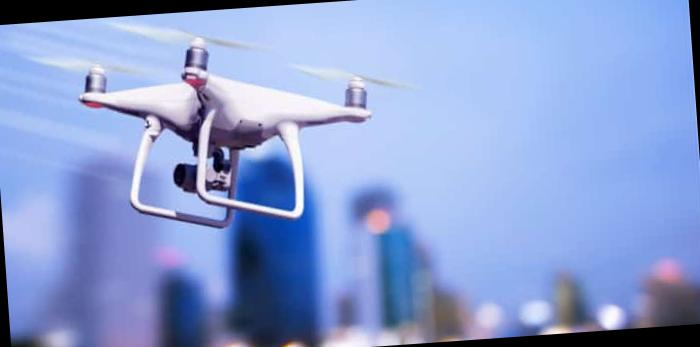drone: (17, 14, 390, 249)
